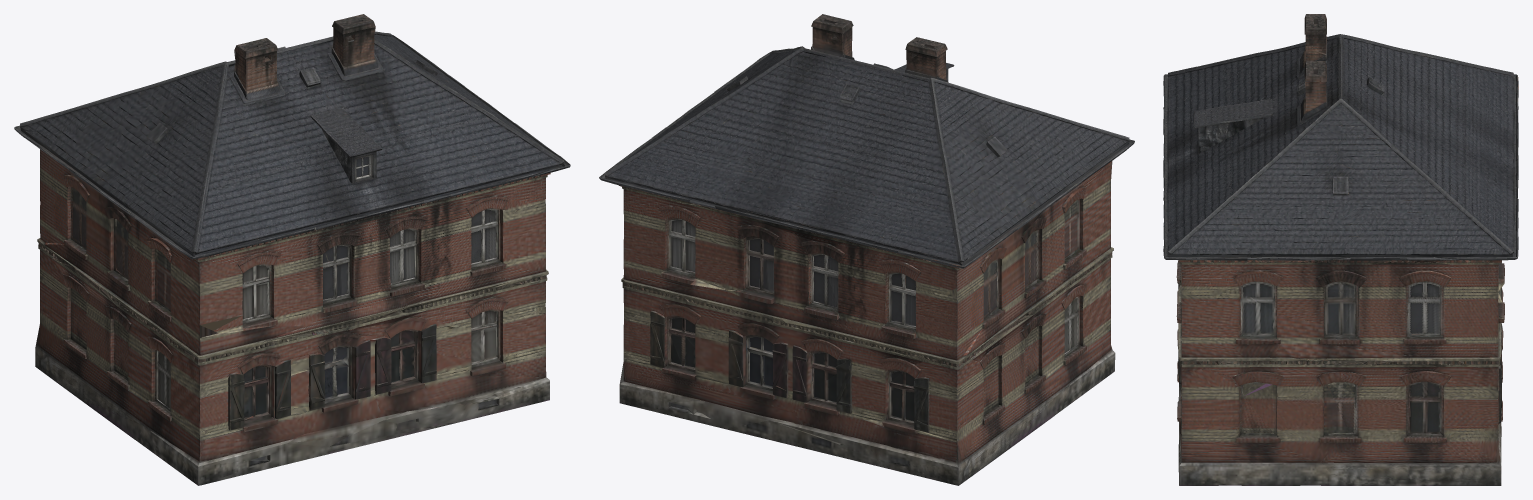
The model's file is mid_familok_house__b.glb.
3 renders of one model, left to right at view 1: azimuth 30°, elevation 25°; view 2: azimuth 150°, elevation 25°; view 3: azimuth 270°, elevation 25°, orthographic. The views are drawn at different scales.
Size of the model in its own units: 1.9 by 1.71 by 1.55.
Materials: 1 (1 with a texture image).
